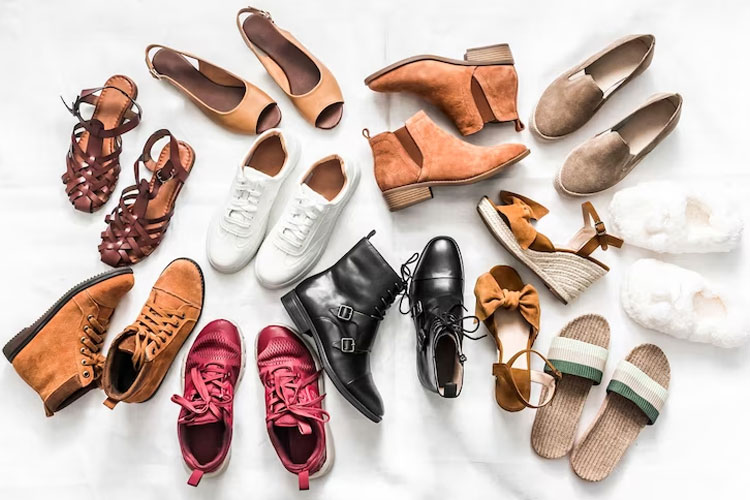sandal: (51, 57, 194, 264), (534, 311, 674, 483)
sepatu: (3, 251, 210, 413), (351, 38, 546, 209), (160, 320, 345, 483), (535, 5, 690, 194), (212, 130, 352, 297)
